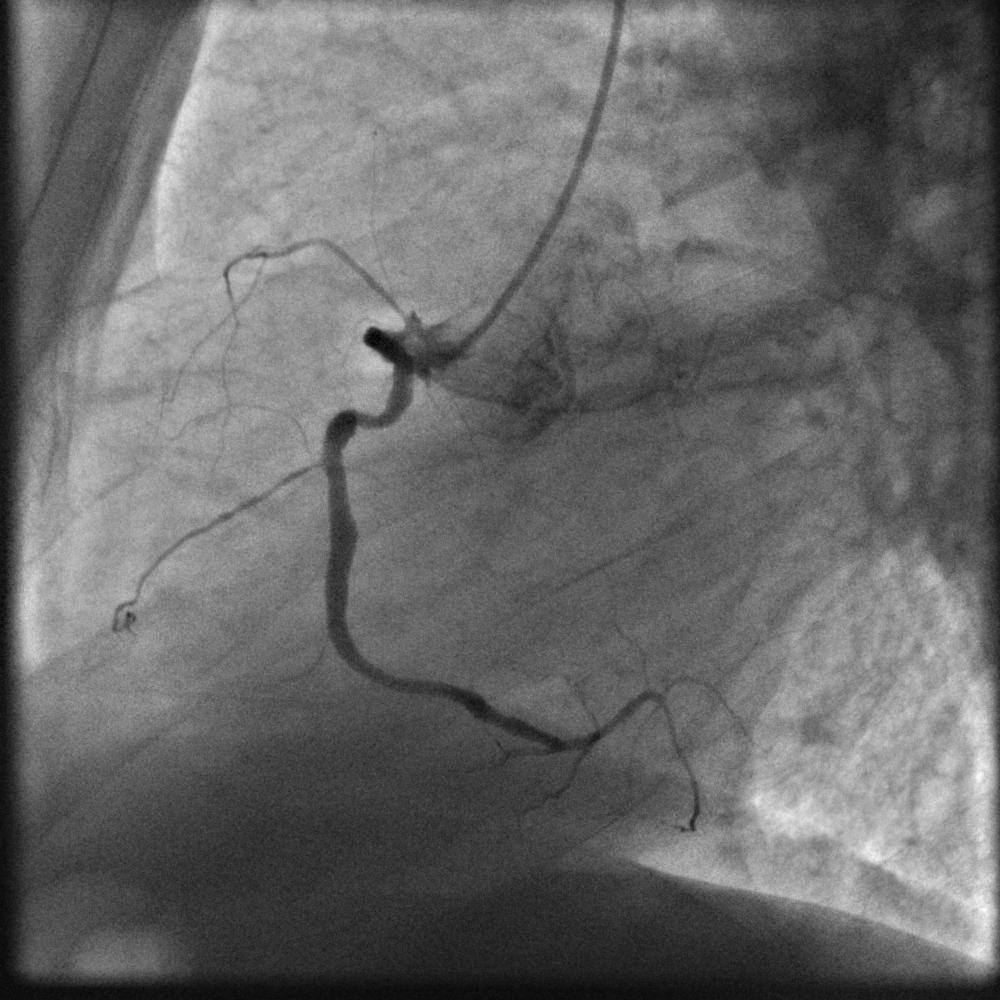Stenosis: (349, 406, 379, 429)
